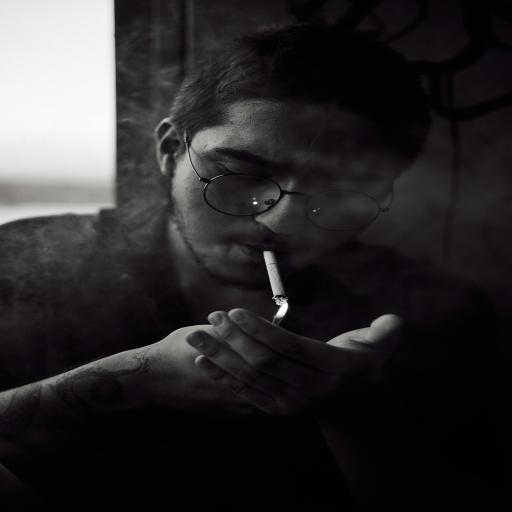dataset-deteksi-merokok: (190, 113, 378, 334)
